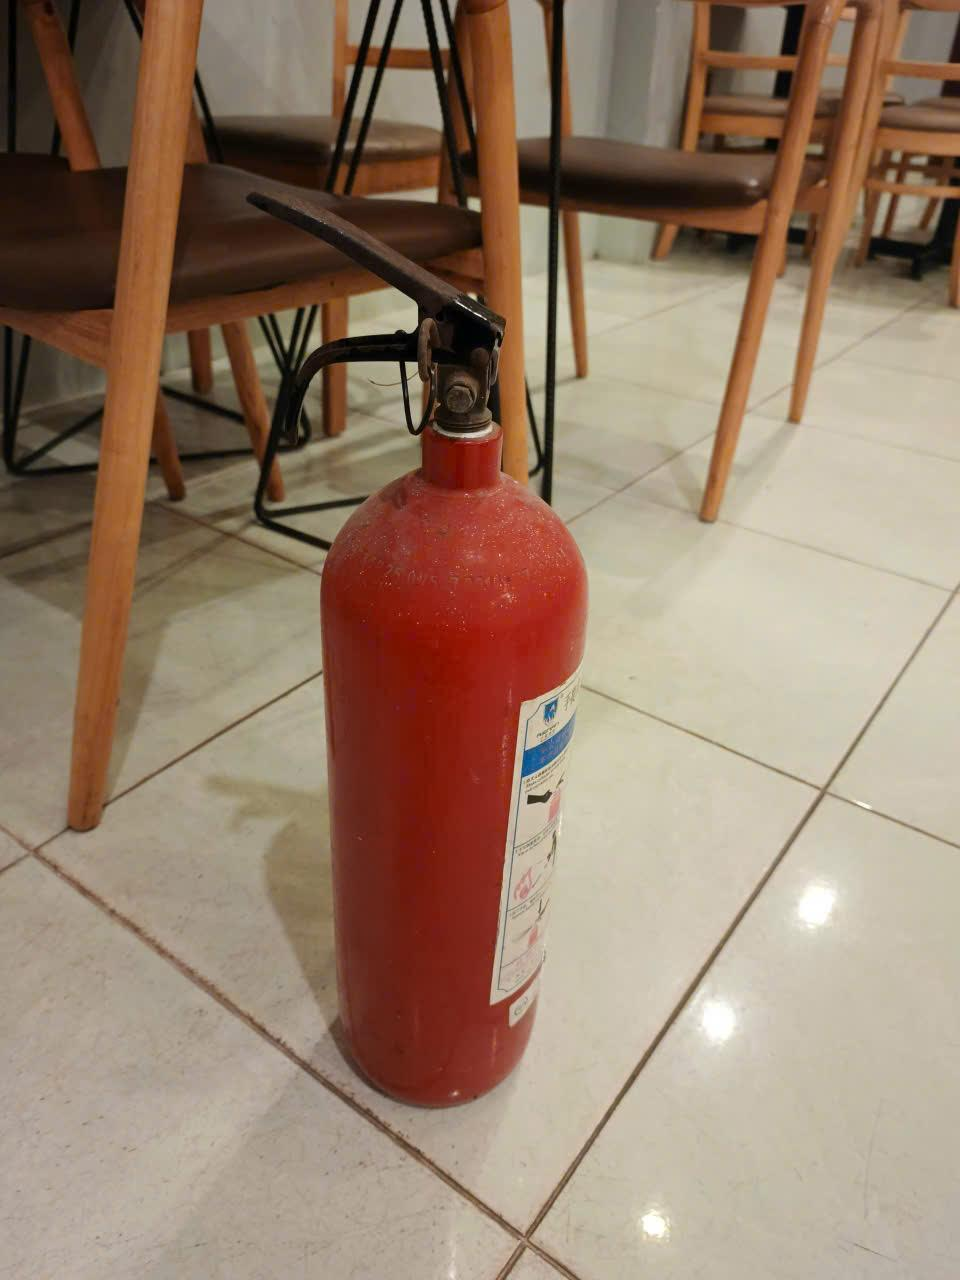Con lai: (230, 188, 590, 1109)
